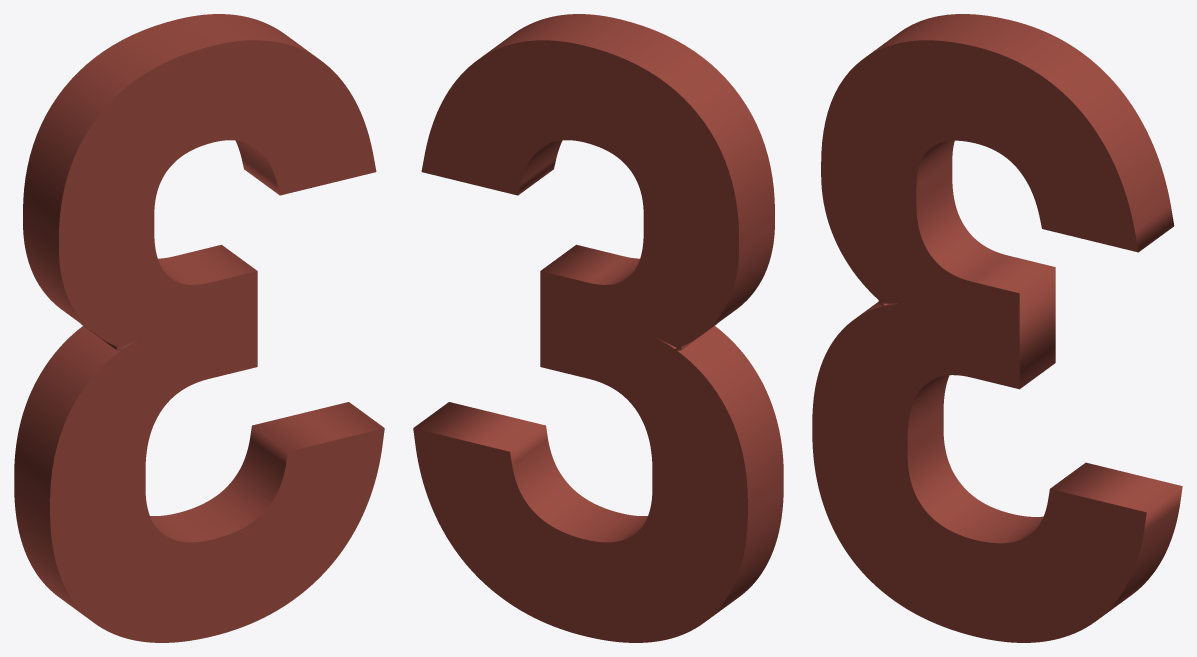
The model's file is Цифра_3.fbx.
3 views of the same model, side by side, from view 1: azimuth 30°, elevation 25°; view 2: azimuth 150°, elevation 25°; view 3: azimuth 330°, elevation 25° (orthographic).
Visible parts, largest first — view 1: 3; view 2: 3; view 3: 3.
Part boxes in pixels (x1=…): 3: x1=14, y1=14, x2=384, y2=642; 3: x1=413, y1=14, x2=783, y2=642; 3: x1=812, y1=14, x2=1182, y2=642.
Size of the model in its own units: 257 by 433 by 47.74.
